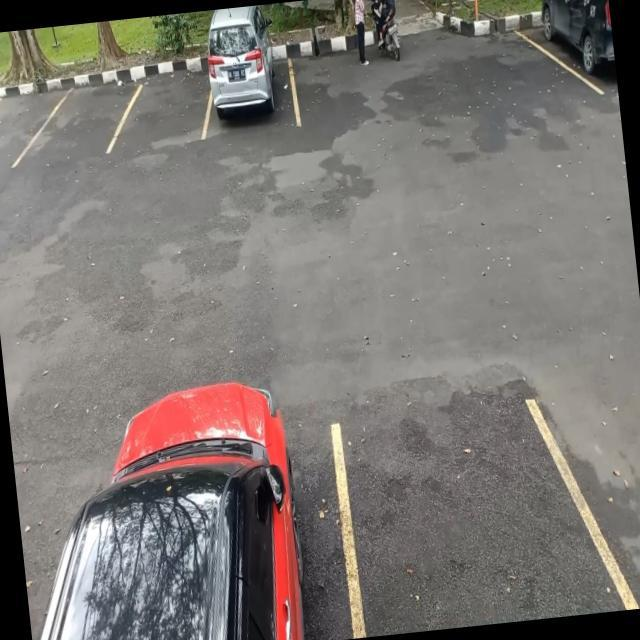empty: (327, 393, 610, 639), (116, 49, 211, 152), (38, 65, 128, 163), (0, 74, 46, 170)
occupied: (199, 25, 300, 137)
